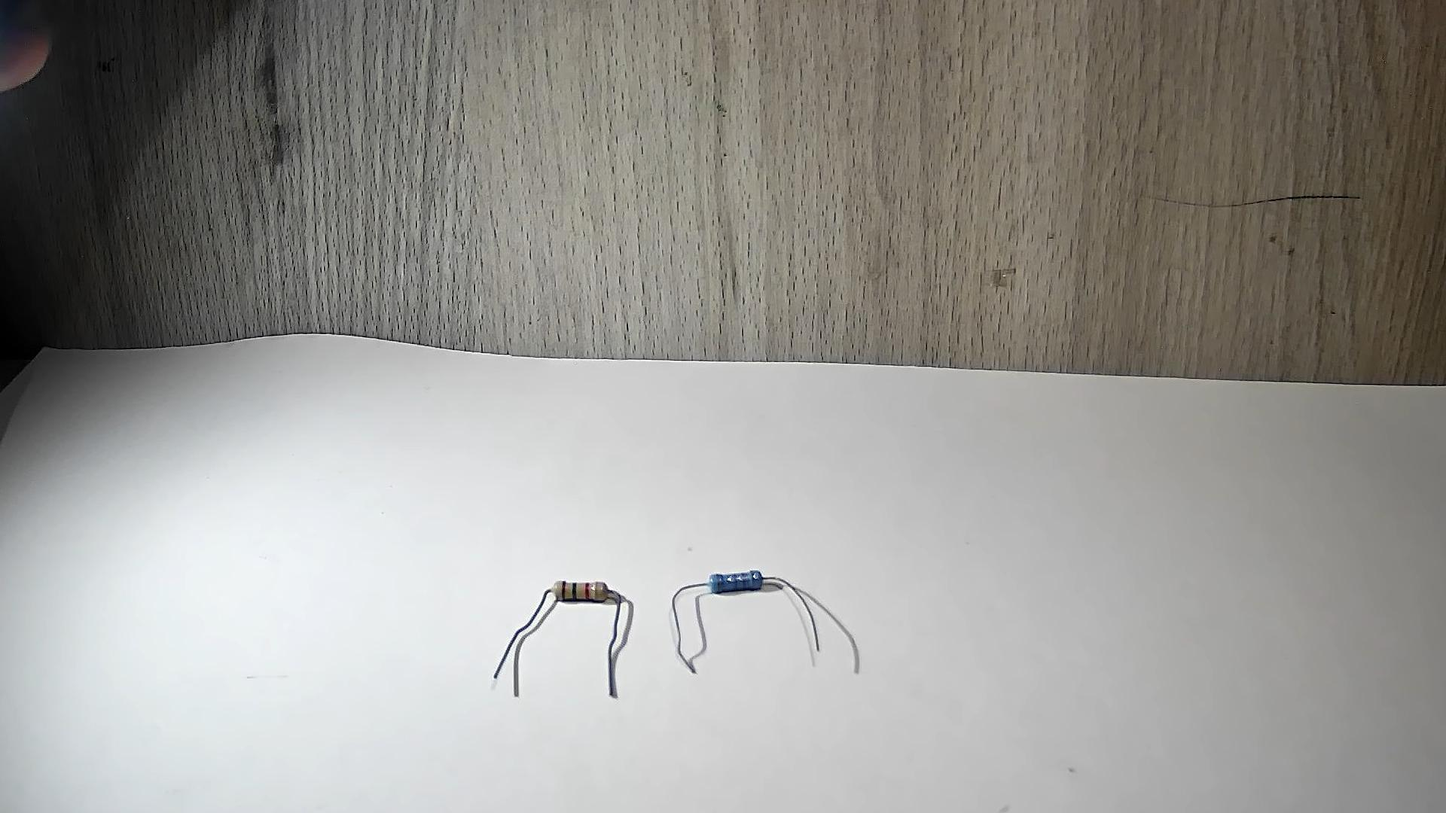Resistencia: (671, 555, 864, 691), (500, 555, 656, 711)
